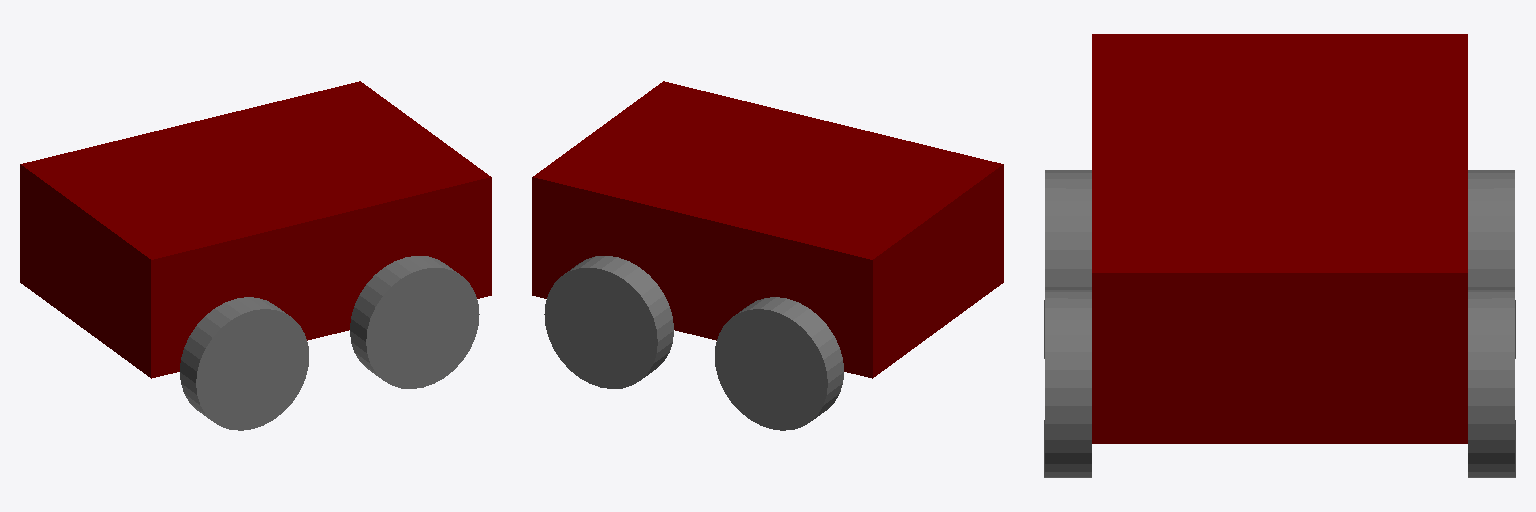
robot.urdf — my_robot:
<?xml version="1.0"?>
<robot name="my_robot">

    <material name="red">
        <color rgba="0.5 0 0 1" /> <!-- red green blue and alpha which is transperency    -->
    </material>

    <material name="grey"> 
        <color rgba="0.5 0.5 0.5 1."/>
    </material>

    <link name="base_link">
        <visual>
            <geometry>
                <box size="0.6 0.4 0.2" /> <!--length breadth height --><!--in metric format -->
            </geometry>
            <origin xyz="0 0 0.1 " rpy="0 0 0" />
            <material name="red" />
        </visual>
    </link>

    <link name="back_right_wheel_link">
        <visual>
            <geometry>
                <cylinder radius="0.1" length="0.05"/>
            </geometry>
            <origin xyz="0.0 0.0 0.0" rpy="1.57 0.0 0.0"/>
            <material name="grey"/>
        </visual>
    </link>

    <link name="back_left_wheel_link">
        <visual>
            <geometry>
                <cylinder radius="0.1" length="0.05"/>
            </geometry>
            <origin xyz="0.0 0.0 0.0" rpy="-1.57 0.0 0.0"/>
            <material name="grey"/>
        </visual>
    </link>

    <link name="front_right_wheel_link">
        <visual>
            <geometry>
                <cylinder radius="0.1" length="0.05"/>
            </geometry>
            <origin xyz="0.0 0.0 0.0" rpy="1.57 0.0 0.0"/>
            <material name="grey"/>
        </visual>
    </link>    

    <link name="front_left_wheel_link">
        <visual>
            <geometry>
                <cylinder radius="0.1" length="0.05"/>
            </geometry>
            <origin xyz="0.0 0.0 0.0" rpy="-1.57 0.0 0.0"/>
            <material name="grey"/>
        </visual>
    </link>


    <link name="base_footprint">
        <visual>
            <geometry>
                
            </geometry>
            <origin xyz="0.0 0.0 0.0" rpy="0.0 0.0 0.0"/>
            <material>
                
            </material>
        </visual>
    </link>

    <joint name="base_back_right_wheel_joint" type="continuous">
        <parent link="base_link"/>
        <child link="back_right_wheel_link"/>
        <origin xyz="-0.15 -0.225 0.0" rpy="0.0 0.0 0.0"/><!-- length of wheel = 0.05 divide by half + 0.2-->
        <axis xyz="0.0 1.0 0.0"/><!-- in 0 or 1-->
    </joint>

    <joint name="base_back_left_wheel_joint" type="continuous">
        <parent link="base_link"/>
        <child link="back_left_wheel_link"/>
        <origin xyz="-0.15 0.225 0.0" rpy="0.0 0.0 0.0"/><!-- length of wheel = 0.05 divide by half + 0.2-->
        <axis xyz="0.0 1.0 0.0"/><!-- in 0 or 1-->
    </joint>

    <joint name="base_front_right_wheel_joint" type="continuous">
        <parent link="base_link"/>
        <child link="front_right_wheel_link"/>
        <origin xyz="0.15 -0.225 0.0" rpy="0.0 0.0 0.0"/><!-- length of wheel = 0.05 divide by half + 0.2-->
        <axis xyz="0.0 1.0 0.0"/><!-- in 0 or 1-->
    </joint>

    <joint name="base_front_left_wheel_joint" type="continuous">
        <parent link="base_link"/>
        <child link="front_left_wheel_link"/>
        <origin xyz="0.15 0.225 0.0" rpy="0.0 0.0 0.0"/><!-- length of wheel = 0.05 divide by half + 0.2-->
        <axis xyz="0.0 1.0 0.0"/><!-- in 0 or 1-->
    </joint>
    

    <joint name="base_joint" type="fixed">
        <parent link="base_footprint"/>
        <child link="base_link"/>
        <origin xyz="0.0 0.0 0.1" rpy="0.0 0.0 0.0"/>
    </joint>
    
</robot>

--- Render facts (derived) ---
The picture shows the robot from 3 angles, left to right: view 1: azimuth 30°, elevation 25°; view 2: azimuth 150°, elevation 25°; view 3: azimuth 270°, elevation 25°; orthographic projection.
Robot: my_robot — 6 links, 5 joints (4 continuous, 1 fixed); root link base_footprint; default pose: every joint at zero.
Visible links, largest first — view 1: base_link, back_right_wheel_link, front_right_wheel_link; view 2: base_link, back_left_wheel_link, front_left_wheel_link; view 3: base_link, front_right_wheel_link, front_left_wheel_link, back_right_wheel_link, back_left_wheel_link.
Boxes of the visible links, bbox=[...] form: base_link: bbox=[20, 81, 491, 378]; back_right_wheel_link: bbox=[180, 297, 308, 430]; front_right_wheel_link: bbox=[350, 256, 479, 388]; base_link: bbox=[532, 81, 1003, 378]; back_left_wheel_link: bbox=[715, 297, 843, 430]; front_left_wheel_link: bbox=[544, 256, 673, 388]; base_link: bbox=[1092, 34, 1467, 443]; front_right_wheel_link: bbox=[1044, 290, 1091, 477]; front_left_wheel_link: bbox=[1468, 290, 1515, 477]; back_right_wheel_link: bbox=[1044, 170, 1091, 358]; back_left_wheel_link: bbox=[1468, 170, 1515, 358].
Size in the robot's own frame: 0.6 by 0.5002 by 0.3 metres.
Geometry: primitives only (box / cylinder / sphere), no mesh files.
